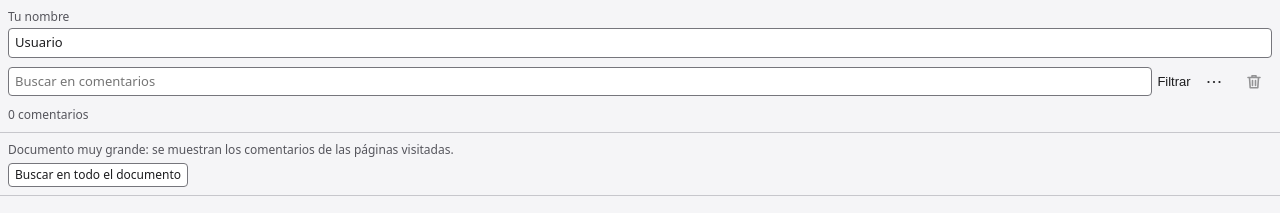
Test: Panel de comentarios (PDF-036) › documento grande (lazy): aviso y botón que lanza el escaneo con progreso
expect the text "se muestran los comentarios de las páginas visitadas" is shown: met, box [8,140,454,158]
Click the button "Buscar en todo el documento": (98, 174) [8,162,188,186]
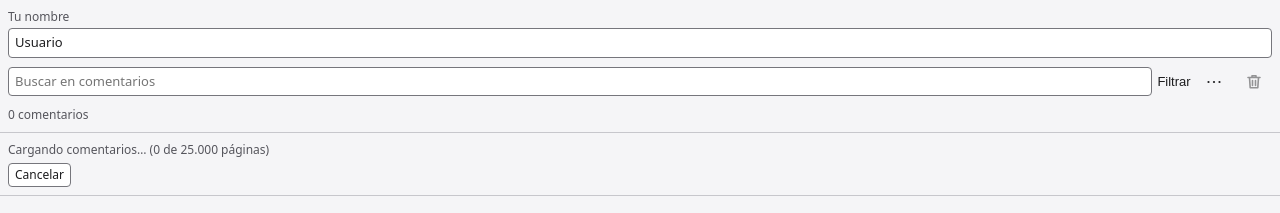
expect the text "Cargando comentarios… (0 de 25.000 páginas)" is shown: met, box [8,140,269,158]
expect the button "Cancelar" is shown: met, box [8,162,71,186]
